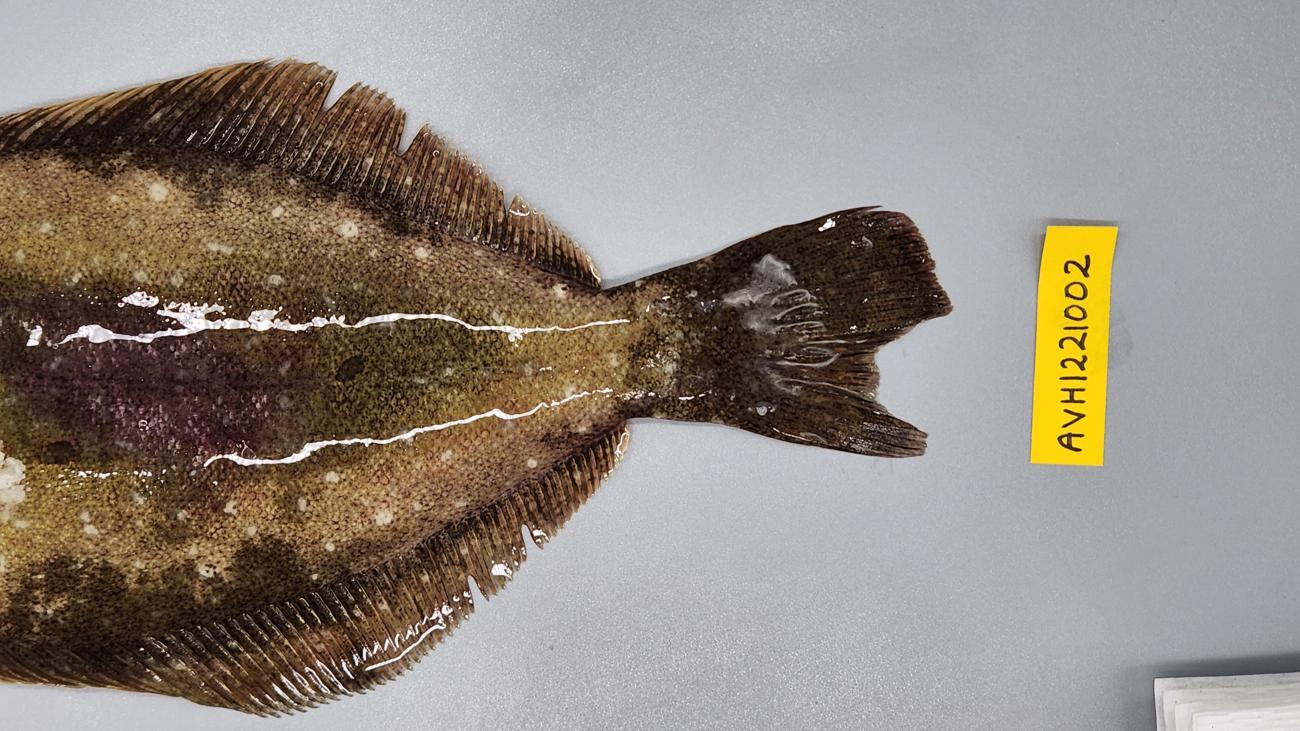VIDYH: (28, 255, 338, 544), (231, 367, 623, 581), (432, 229, 556, 310), (9, 147, 107, 227), (42, 493, 87, 535)
VIFDH: (7, 57, 597, 283)
